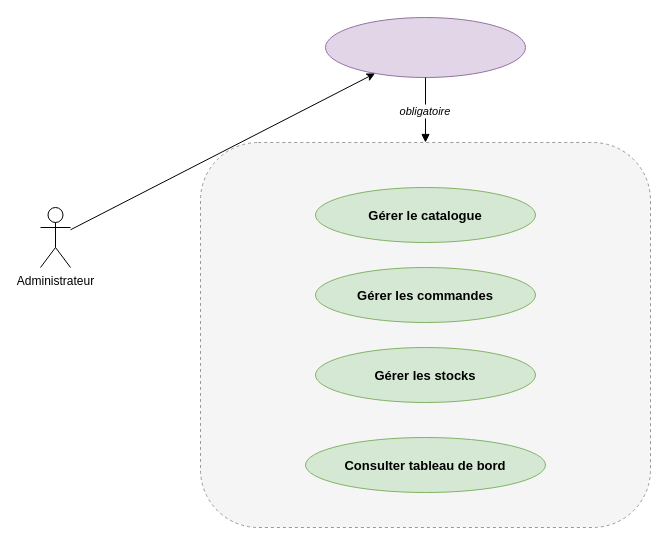
Some shapes in this 668 by 545 pixel diagram are drawn without their labels. Each missing label, with the box of its shape:
Fonctions accessibles après authentification: (200, 142, 650, 528)
S'authentifier: (324, 16, 526, 78)
